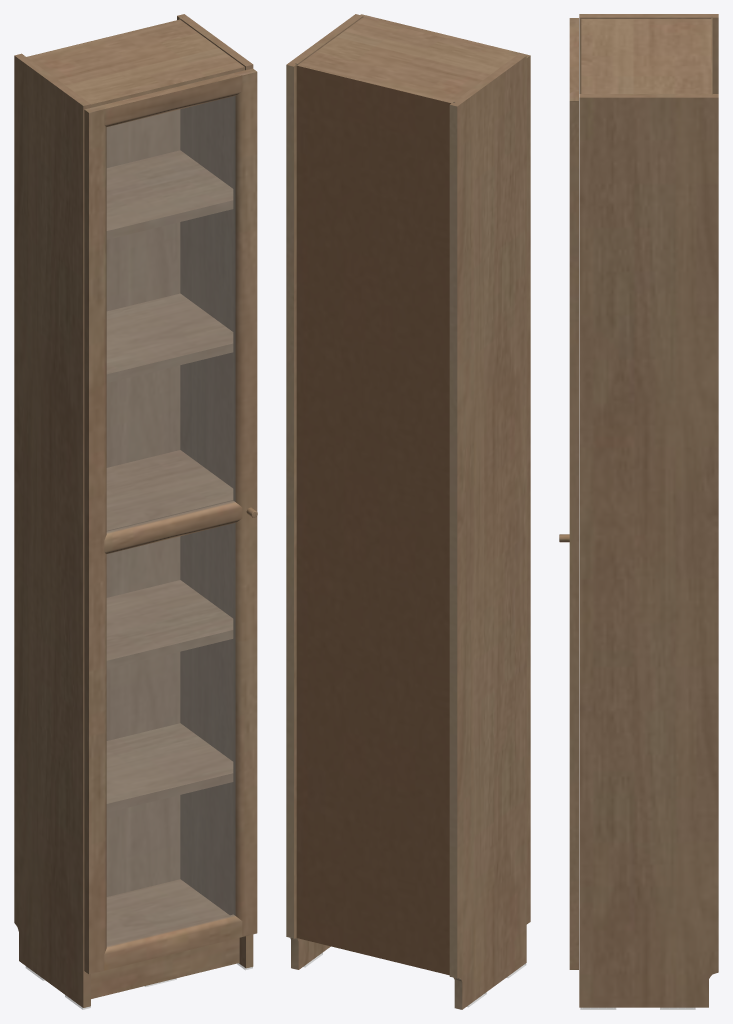
The model's file is billy_oxberg_rega_69581831.glb.
3 renders of one model, left to right at view 1: azimuth 30°, elevation 25°; view 2: azimuth 150°, elevation 25°; view 3: azimuth 270°, elevation 25°, orthographic.
Visible parts, largest first — view 1: billy_oxberg_rega_69581831; view 2: billy_oxberg_rega_69581831; view 3: billy_oxberg_rega_69581831.
Part boxes in pixels (x1,y1,x2,y2): billy_oxberg_rega_69581831: [14, 14, 257, 1009]; billy_oxberg_rega_69581831: [286, 14, 530, 1009]; billy_oxberg_rega_69581831: [559, 14, 718, 1009].
Bounding box in the file's own units: 0.398 × 2.02 × 0.3199.
2 materials, 2 textured.
